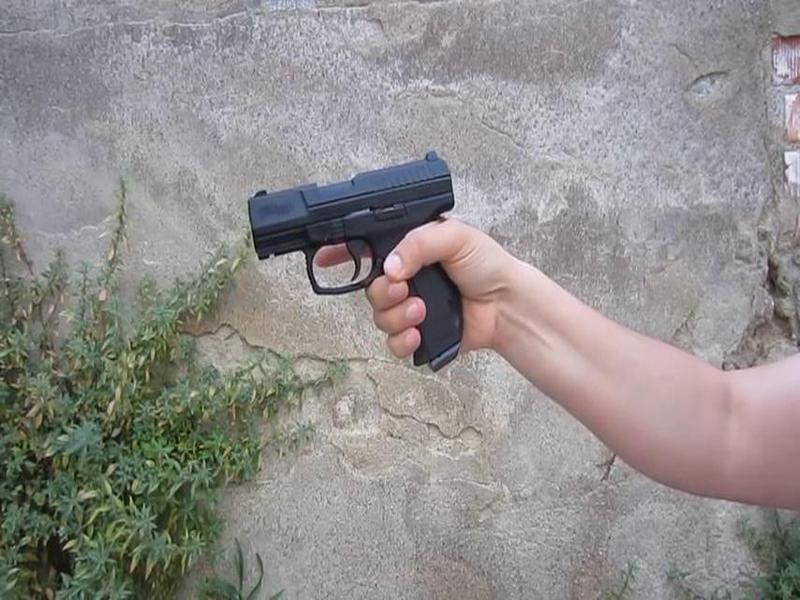Pistola: (224, 161, 465, 365)
